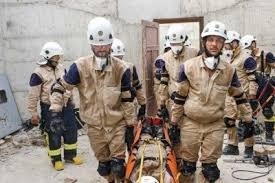helmet: (86, 16, 116, 47), (200, 20, 230, 40), (166, 23, 190, 45), (39, 42, 66, 59), (113, 38, 130, 58), (241, 33, 258, 48), (227, 30, 241, 43)
person with full safety: (182, 18, 237, 182), (78, 16, 131, 173), (226, 28, 260, 156)
person with partial safety: (27, 39, 82, 172), (157, 19, 200, 115)
